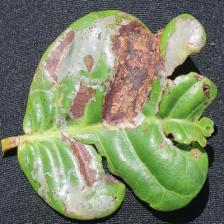leaf miner: (0, 8, 217, 221)
